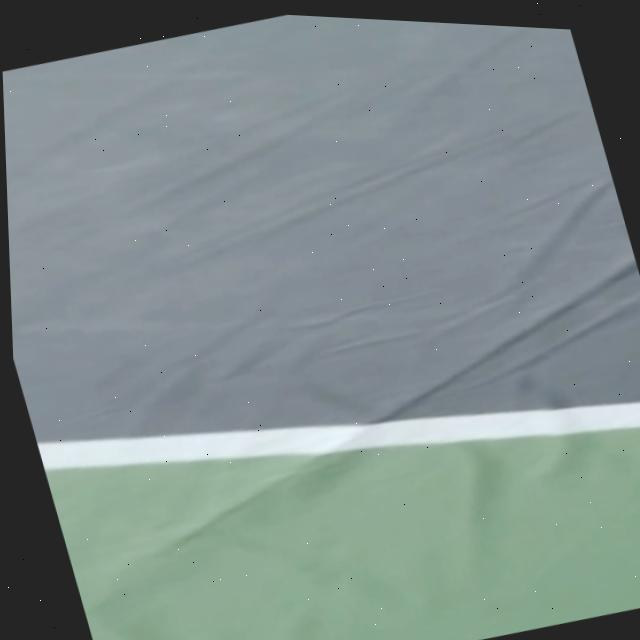right: (37, 400, 640, 468)
